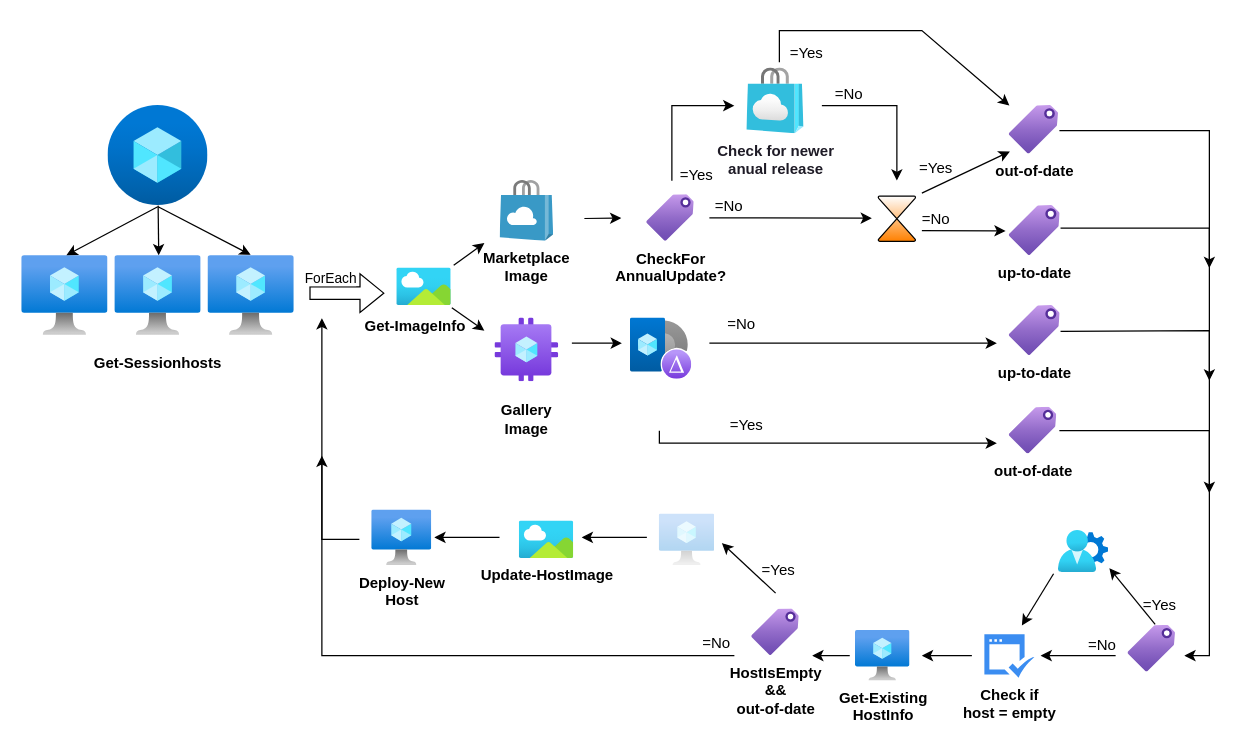
The diagram is 1253 pixels wide and 748 high, and some of its shapes have lost their labels. Here are the shapes that lost their labels. From the top down, the centre of each, then its label:
(x=896, y=218): Check Host Age (> 45 days)
(x=660, y=348): Check for newer version
(x=686, y=539): Delete Host
(x=1083, y=551): LogOff Users
(x=1151, y=648): AIR-ForceLogoff Users
